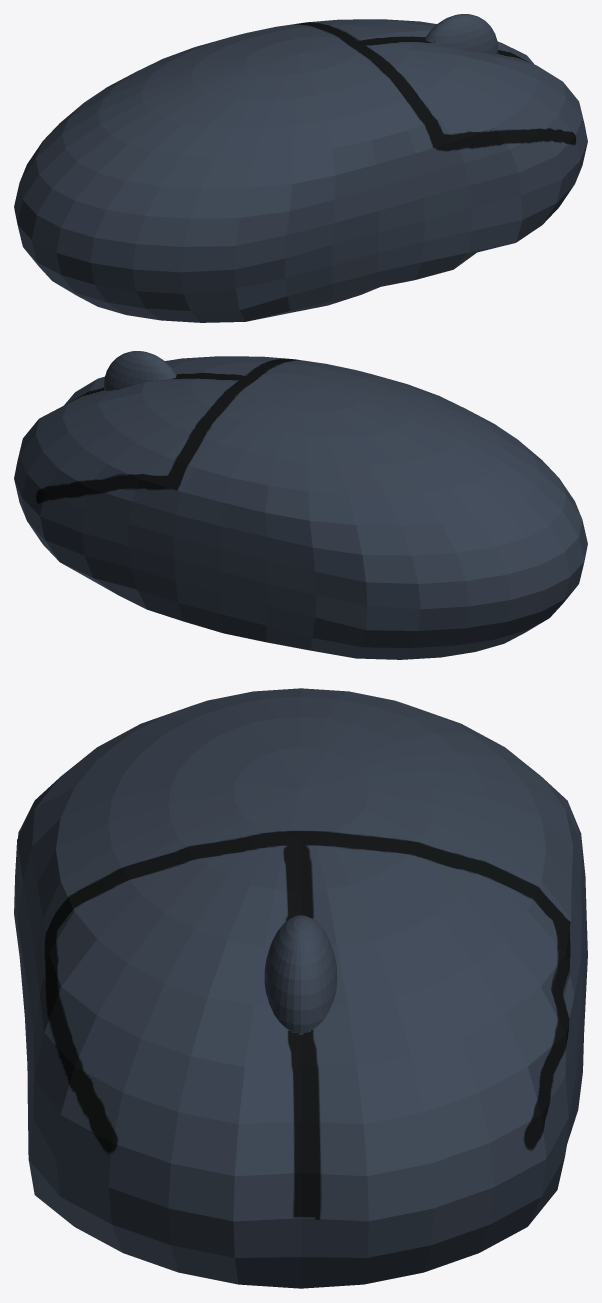
The model's file is Communication-mouse.glb.
3 views of the same model, one above another, from view 1: azimuth 30°, elevation 25°; view 2: azimuth 150°, elevation 25°; view 3: azimuth 270°, elevation 25° (orthographic). The views are drawn at different scales.
Visible parts, largest first — view 1: Sphere.001; view 2: Sphere.001; view 3: Sphere.001.
Boxes of the visible parts, left/top/right/bottom form: Sphere.001: left=14, top=14, right=587, bottom=322; Sphere.001: left=14, top=351, right=587, bottom=659; Sphere.001: left=14, top=688, right=587, bottom=1288.
Size of the model in its own units: 1.39 by 0.4981 by 0.7447.
1 material, 1 textured.
